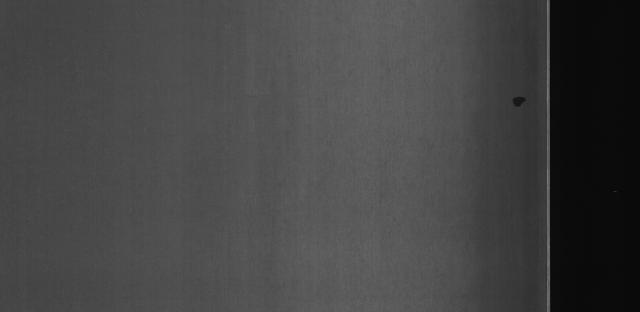oil_spot: (497, 89, 531, 114)
